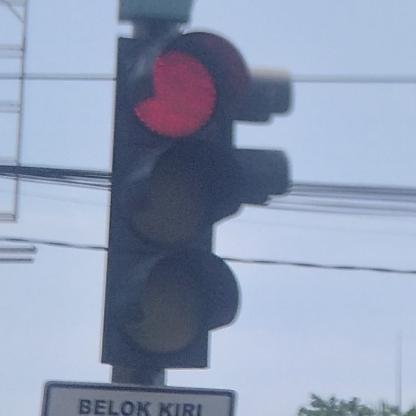red: (99, 33, 245, 371)
